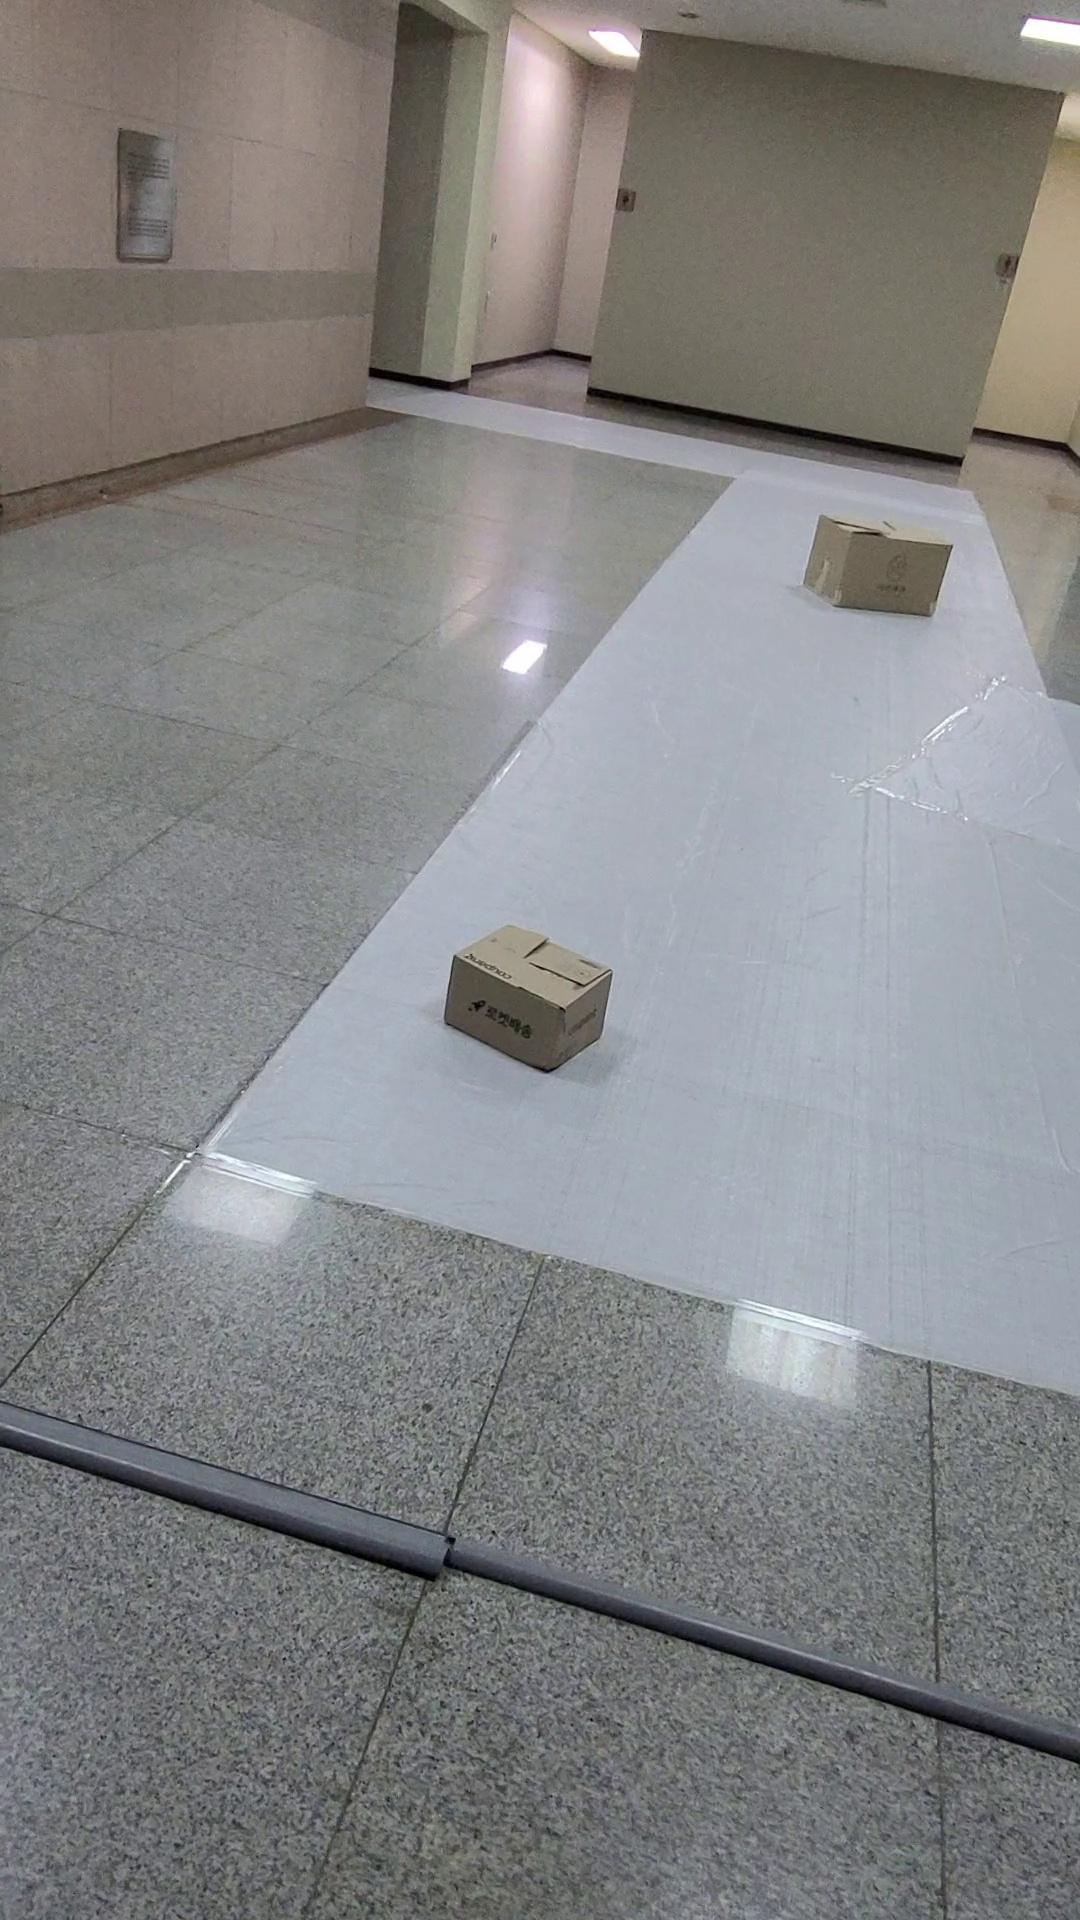Box: (406, 915, 661, 1110), (775, 483, 985, 650)
